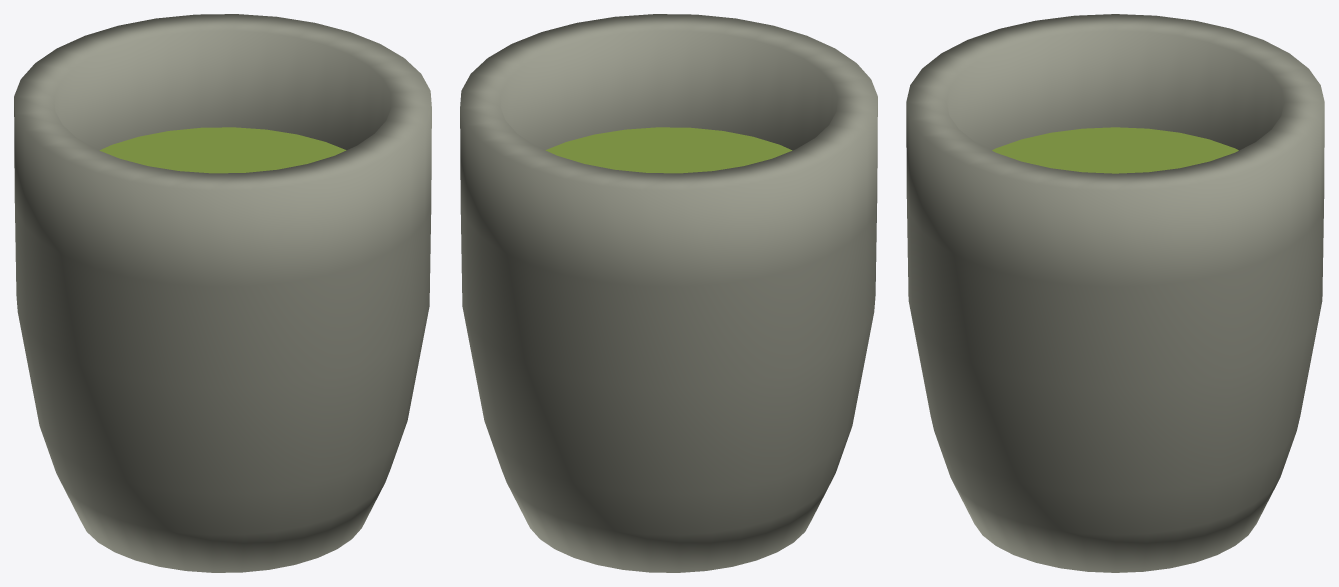
The model's file is TCup.fbx.
3 renders of one model, left to right at view 1: azimuth 30°, elevation 25°; view 2: azimuth 150°, elevation 25°; view 3: azimuth 270°, elevation 25°, orthographic.
Parts seen in each view (by area): view 1: Glass; view 2: Glass; view 3: Glass.
Part boxes in pixels (x1,y1,x2,y2): Glass: [14, 14, 431, 572]; Glass: [460, 14, 877, 572]; Glass: [906, 14, 1324, 572].
Bounding box in the file's own units: 13.23 × 14.3 × 13.23.
